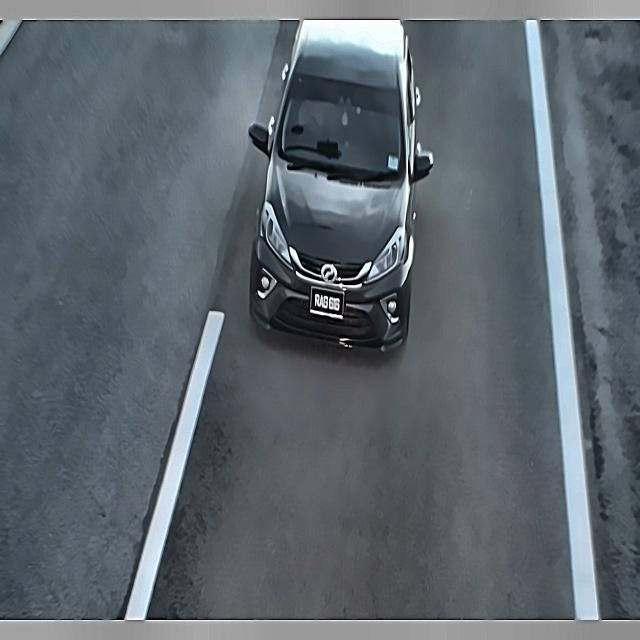car: (305, 281, 350, 322)
